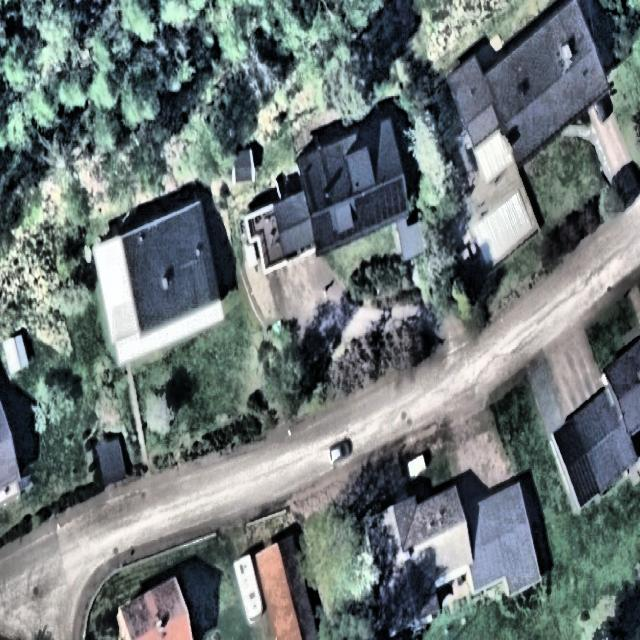roof_pv: (349, 179, 409, 226), (311, 209, 337, 255), (336, 222, 366, 246)
